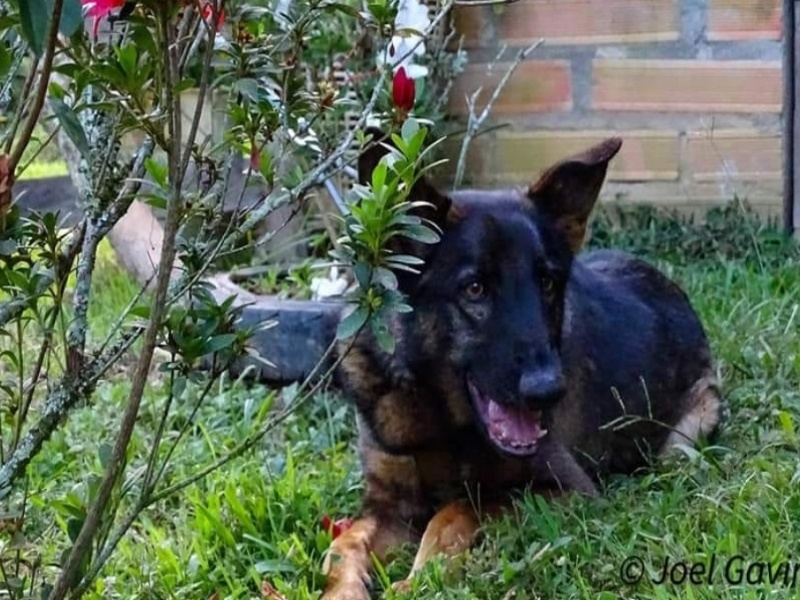dog: (304, 133, 720, 600)
